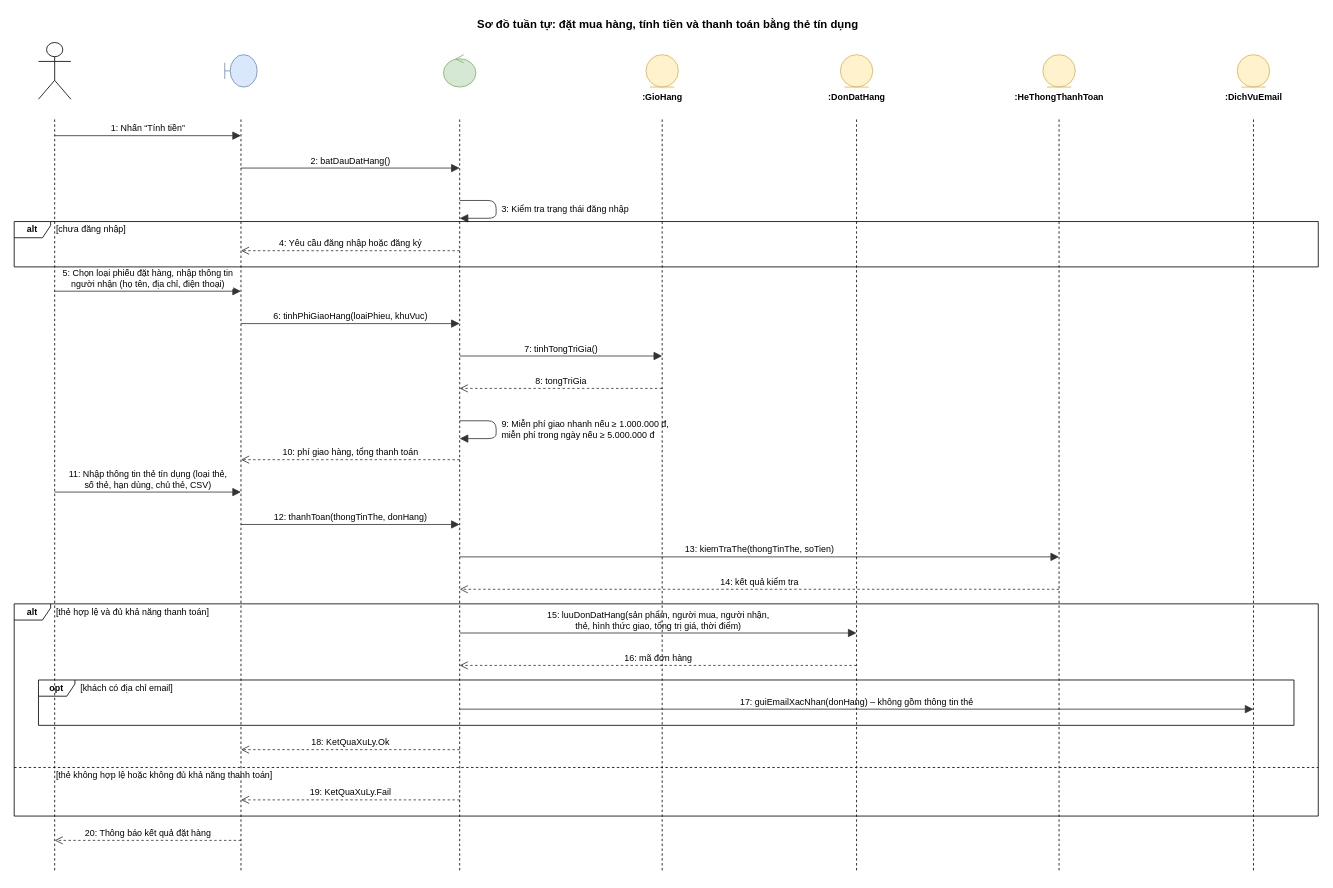
This 1333x888 diagram has some shape labels left out. The box of each missing label's shape, as (x1, y1, x2, y2) in pixels:
:DatHangController: (443, 54, 476, 87)
:FrmDatHang: (224, 54, 257, 87)
Khách hàng: (38, 42, 71, 99)
